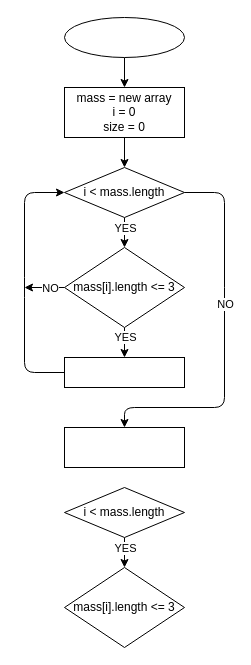
Some shapes in this 251 by 665 pixel diagram are drawn without their labels. The shapes that lost their labels are listed below. From the top down, each one's box as (x1, y1, x2, y2) in pixels, then its label:
(64, 16, 184, 58): START
(64, 356, 184, 388): size = size +1
